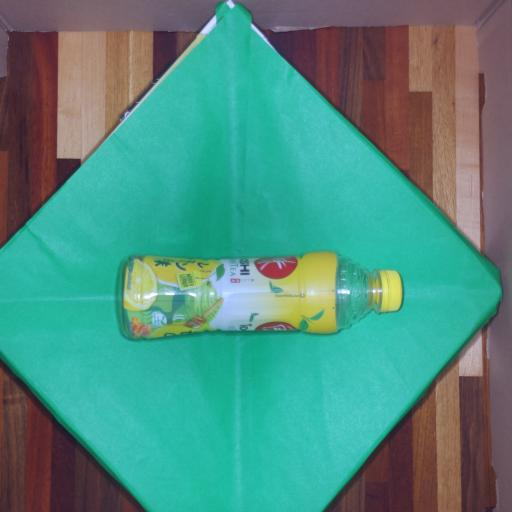bottle: (97, 227, 404, 356)
